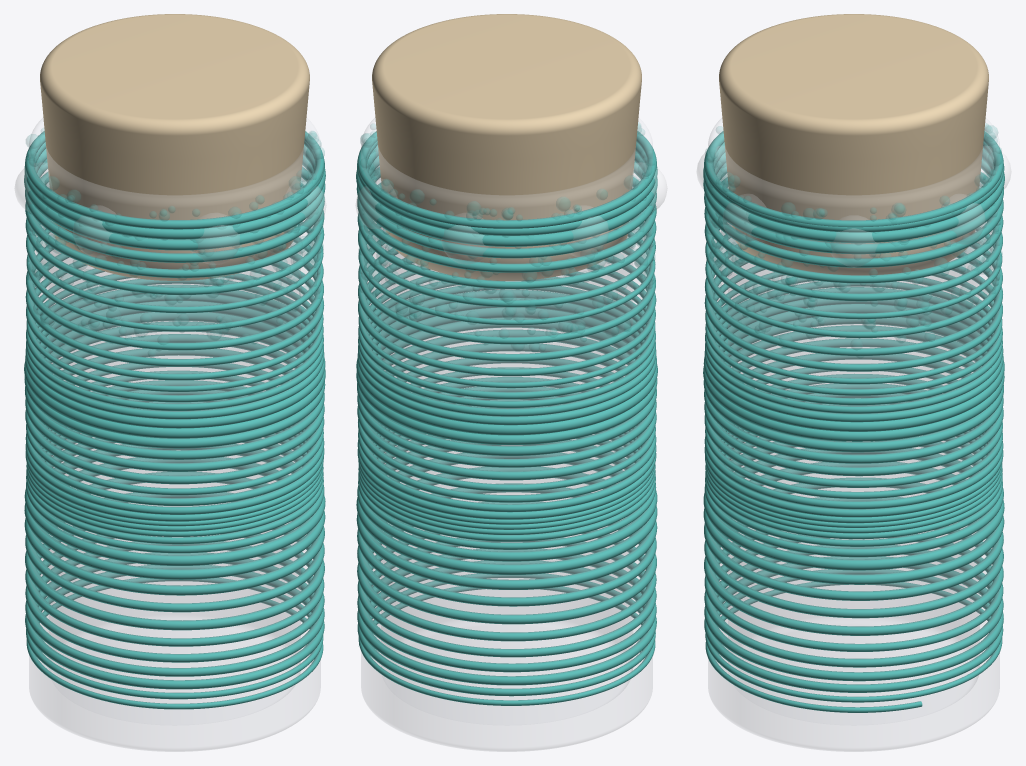
File: jar_clear_silver.glb
3 renders of one model, left to right at view 1: azimuth 30°, elevation 25°; view 2: azimuth 150°, elevation 25°; view 3: azimuth 270°, elevation 25°, orthographic.
Visible parts, largest first — view 1: lines, body, cork, frit, marbles; view 2: lines, body, cork, frit, marbles; view 3: lines, body, cork, frit, marbles.
Part boxes in pixels (bbox=[...]): lines: bbox=[24, 131, 325, 709]; body: bbox=[29, 118, 320, 751]; cork: bbox=[40, 14, 309, 280]; frit: bbox=[26, 128, 324, 357]; marbles: bbox=[14, 145, 326, 264]; lines: bbox=[356, 131, 657, 705]; body: bbox=[361, 118, 652, 751]; cork: bbox=[372, 14, 641, 280]; frit: bbox=[358, 122, 655, 352]; marbles: bbox=[355, 145, 667, 264]; lines: bbox=[703, 131, 1004, 712]; body: bbox=[708, 118, 999, 751]; cork: bbox=[719, 14, 988, 275]; frit: bbox=[705, 123, 1002, 358]; marbles: bbox=[697, 146, 1010, 267].
Size of the model in its own units: 0.047 by 0.104 by 0.0475.
